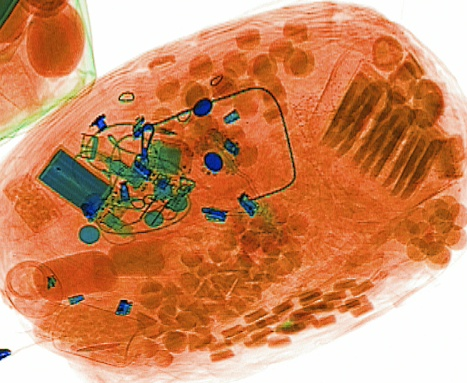powerbank: (34, 142, 135, 232)
